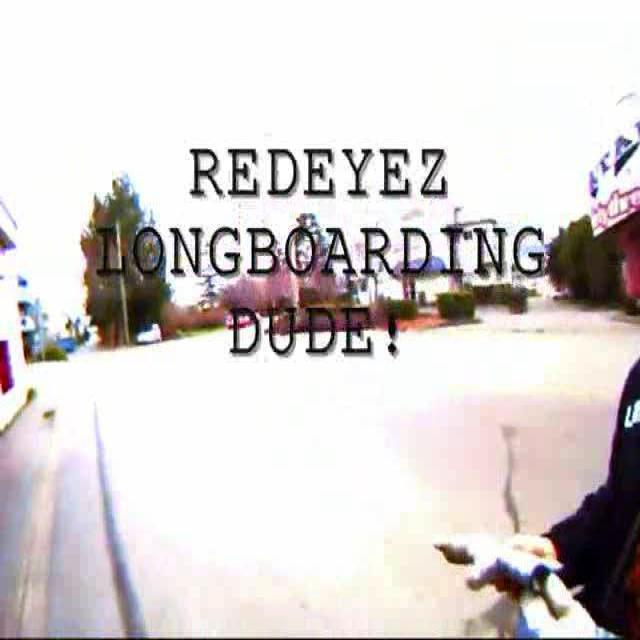other: (72, 367, 440, 607)
